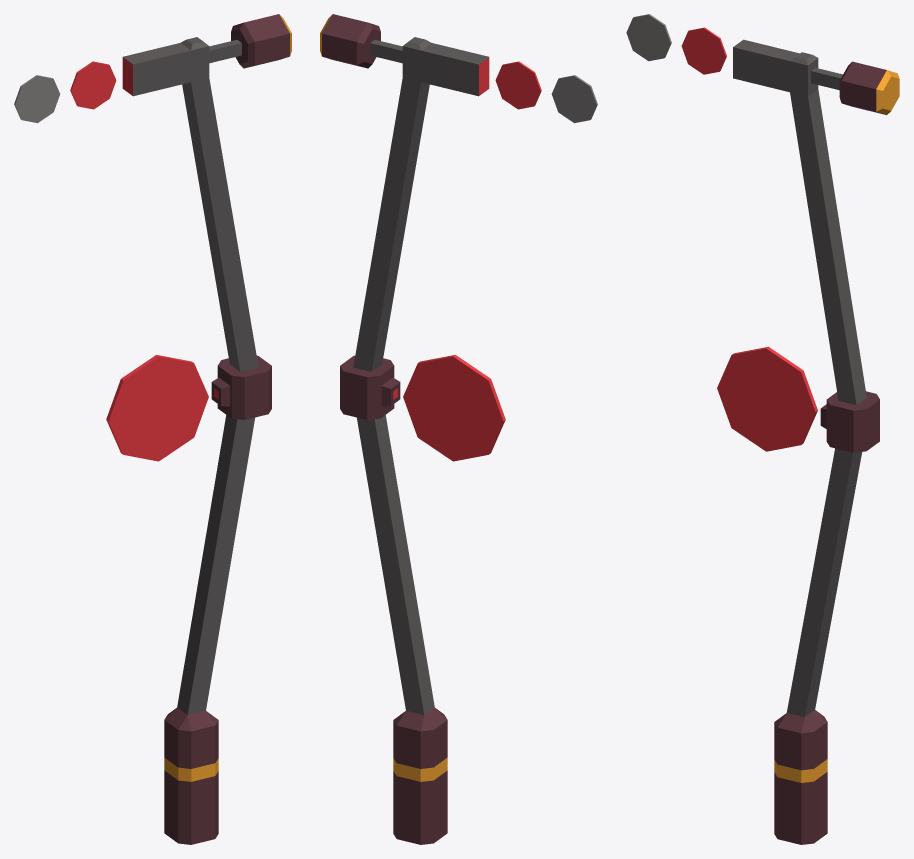
The model's file is scifi-traffic-lights-stop.fbx.
3 renders of one model, left to right at view 1: azimuth 30°, elevation 25°; view 2: azimuth 150°, elevation 25°; view 3: azimuth 330°, elevation 25°, orthographic.
Parts seen in each view (by area): view 1: scifi-traffic-lights-stop; view 2: scifi-traffic-lights-stop; view 3: scifi-traffic-lights-stop.
Part boxes in pixels (left/top/right/bottom): scifi-traffic-lights-stop: left=14, top=14, right=291, bottom=844; scifi-traffic-lights-stop: left=320, top=14, right=597, bottom=844; scifi-traffic-lights-stop: left=626, top=14, right=899, bottom=844.
Size of the model in its own units: 3.12 by 8.84 by 0.4698.
